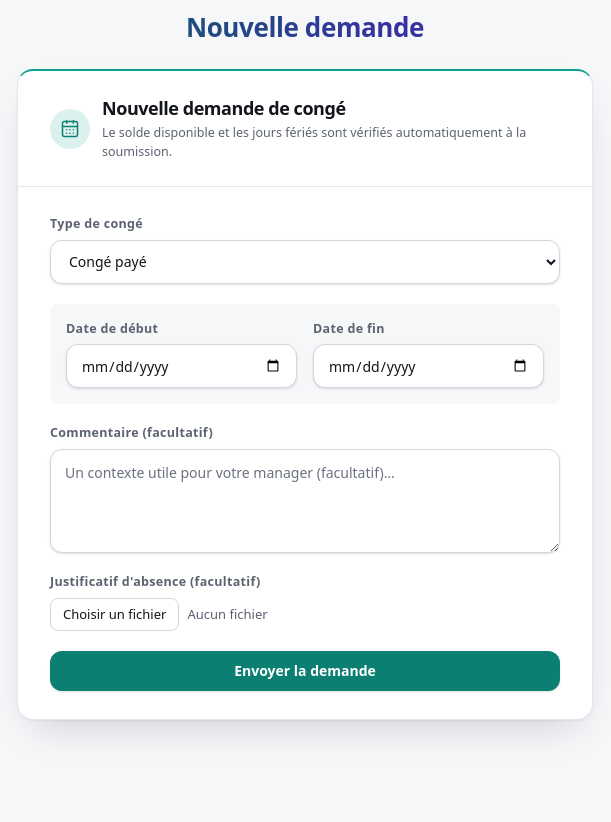
Test: NouvelleDemandePage › soumission valide : message de succes puis redirection vers /mes-demandes
Type "2026-10-05" into the date field labelled "Date de début" at (182, 366), box x1=66 y1=344 x2=297 y2=388
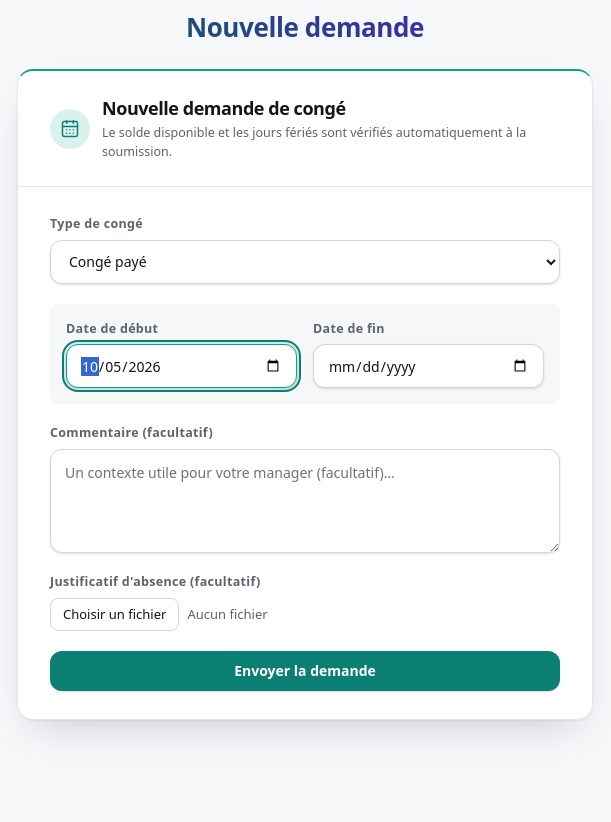
Type "2026-10-10" into the date field labelled "Date de fin" at (428, 366), box x1=313 y1=344 x2=544 y2=388
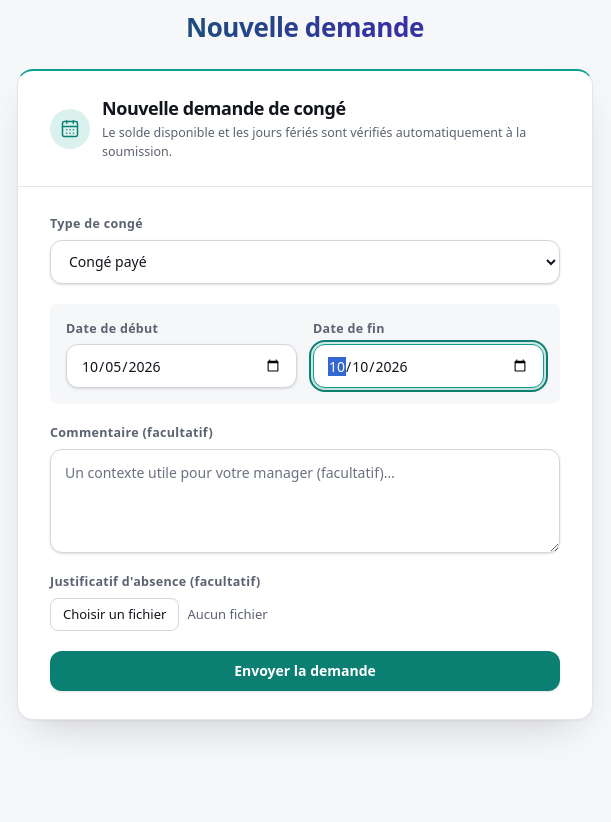
Click the button "Envoyer la demande" at (305, 671), box x1=50 y1=651 x2=560 y2=691
Wait 1300 ms
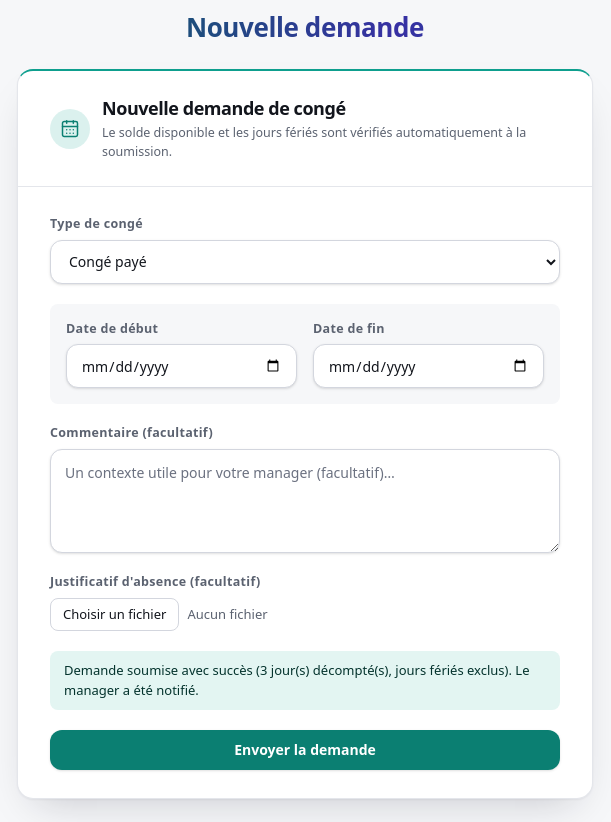
Result: the text "Demande soumise avec succès" is shown at x1=64 y1=661 x2=530 y2=699
